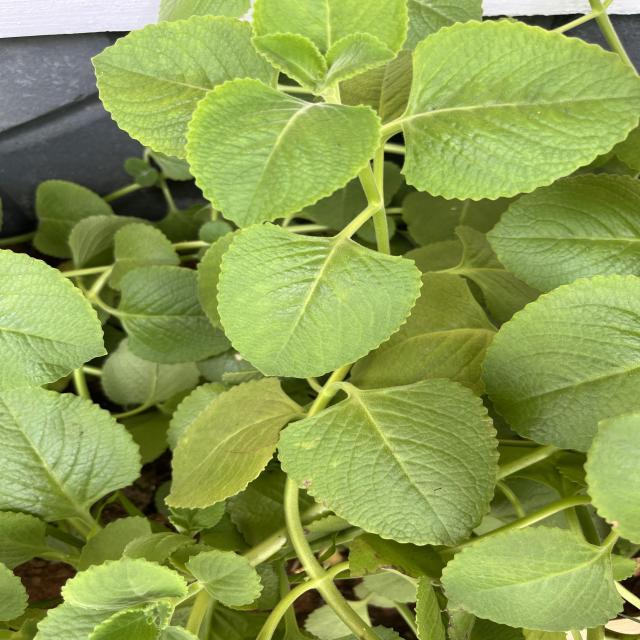Plectranthus barbatus: (398, 16, 640, 203), (274, 375, 502, 548), (214, 222, 426, 381), (183, 76, 384, 230), (477, 272, 640, 454), (89, 13, 259, 160), (438, 524, 626, 634), (1, 386, 146, 527), (484, 171, 640, 293), (162, 376, 289, 510), (118, 264, 242, 366), (184, 548, 265, 608), (249, 32, 324, 94), (324, 31, 400, 92)
